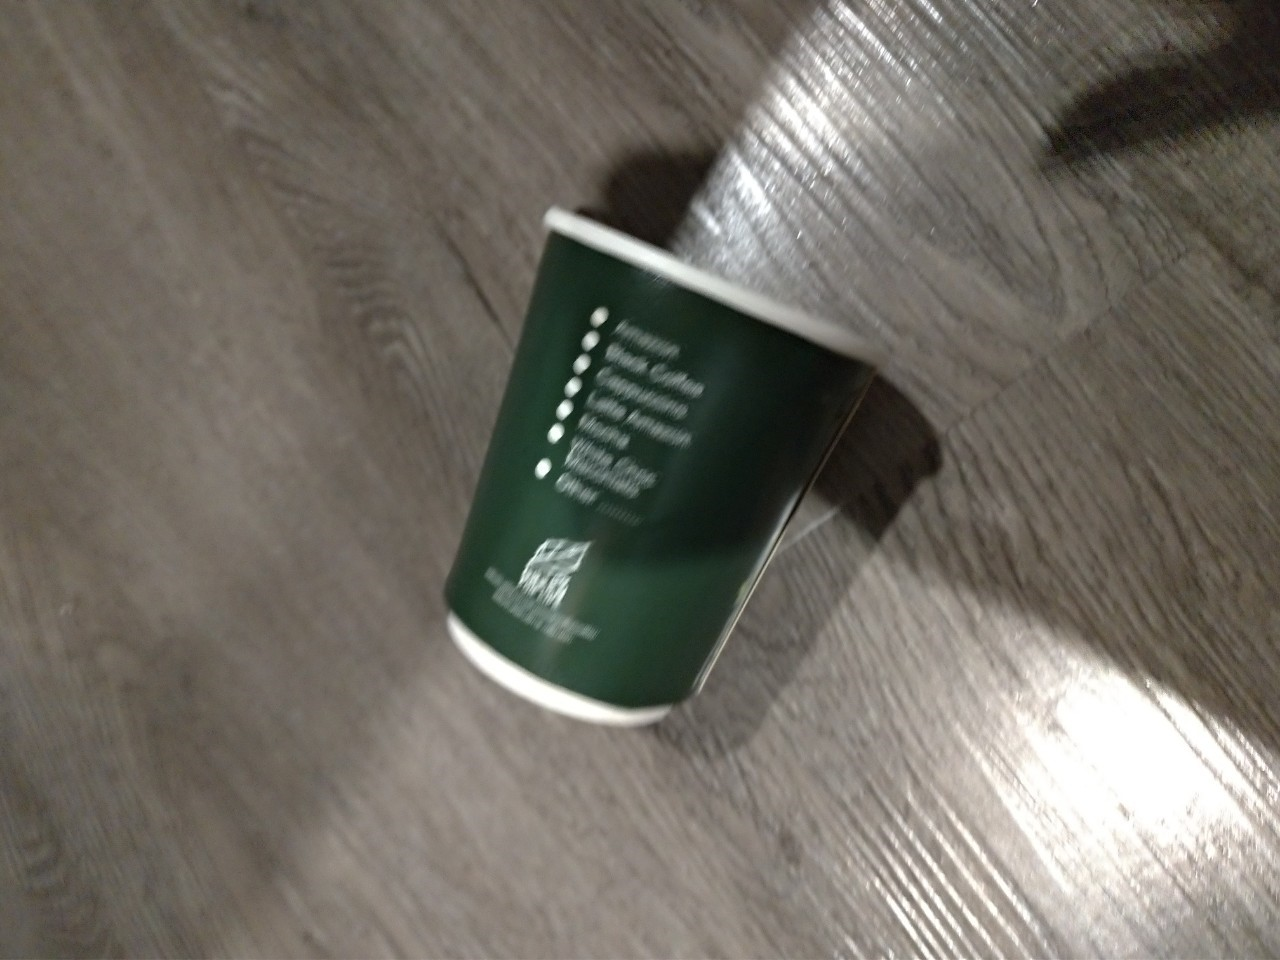PaperCup: (432, 202, 874, 730)
